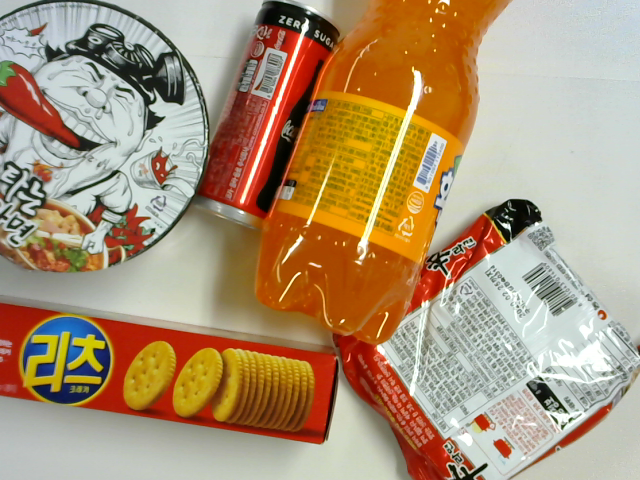Coca_Cola_Zero_Can_250ml: (189, 1, 342, 232)
HeJangsock: (1, 1, 209, 272)
Hwanta_Orange_1.5L: (253, 1, 514, 347)
Ritz_Cracker: (1, 292, 340, 445)
Sinramen: (334, 198, 639, 480)
